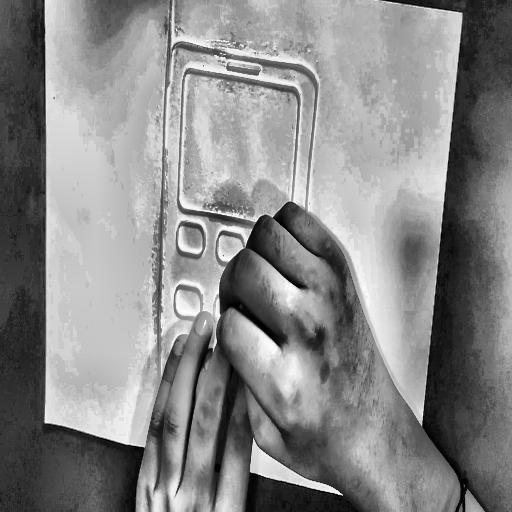bottom_left: (41, 415, 49, 427)
mobile: (150, 2, 329, 452)
top_right: (460, 9, 465, 18)
